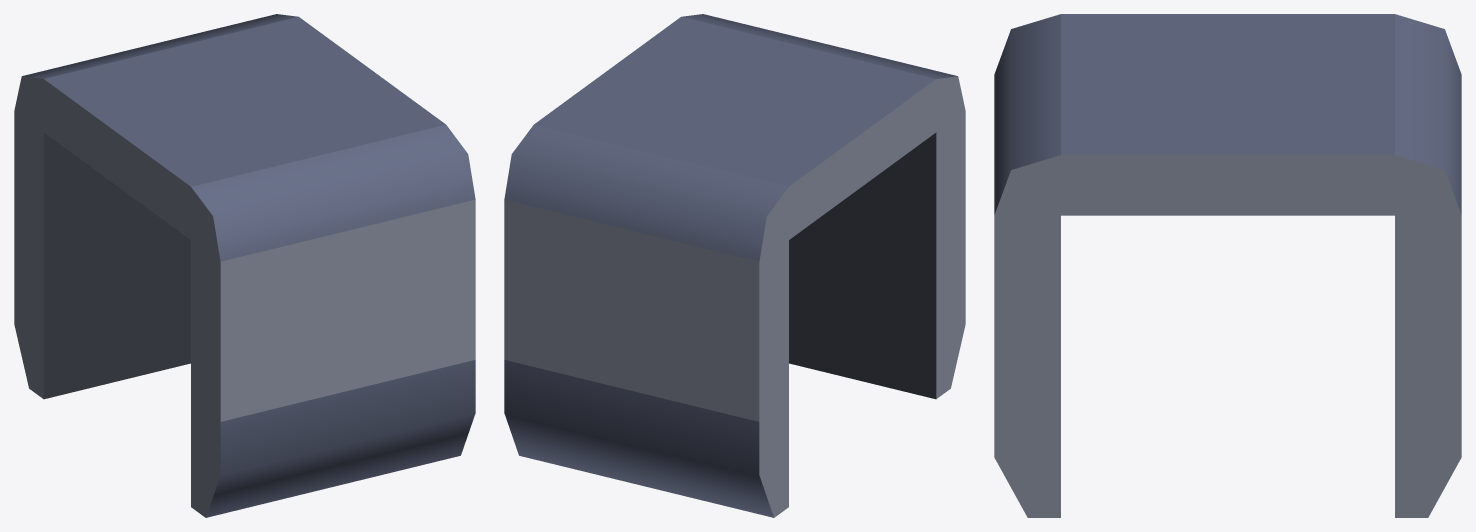
File: Cover-transformed.glb
The picture shows the model from 3 angles, left to right: view 1: azimuth 30°, elevation 25°; view 2: azimuth 150°, elevation 25°; view 3: azimuth 270°, elevation 25°; orthographic projection. The views are drawn at different scales.
Parts seen in each view (by area): view 1: cover; view 2: cover; view 3: cover.
Boxes of the visible parts, <box> form: cover: <box>14,14,475,517</box>; cover: <box>504,14,965,517</box>; cover: <box>994,14,1461,517</box>.
Size of the model in its own units: 1 by 1.2 by 1.4.
